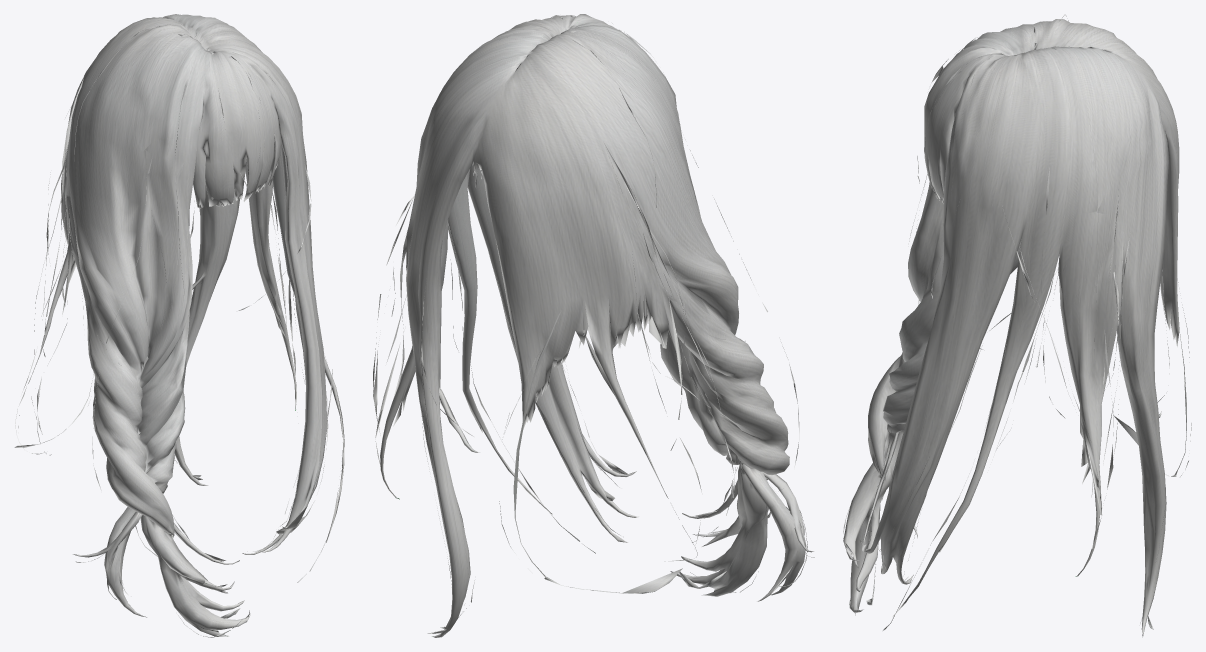
Rendered from hair-7.glb.
3 renders of one model, left to right at view 1: azimuth 30°, elevation 25°; view 2: azimuth 150°, elevation 25°; view 3: azimuth 270°, elevation 25°, orthographic. The views are drawn at different scales.
Bounding box in the file's own units: 0.5527 × 0.9507 × 0.4941.
Materials: 1 (1 with a texture image).
